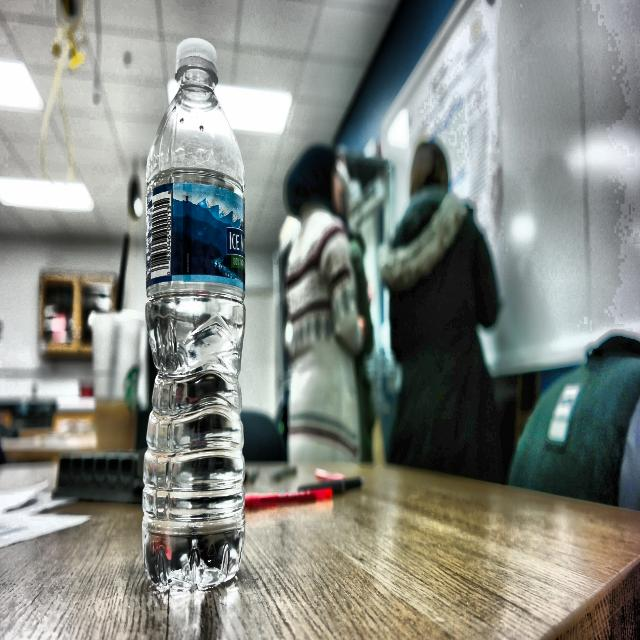Bottles: (140, 28, 247, 593)
